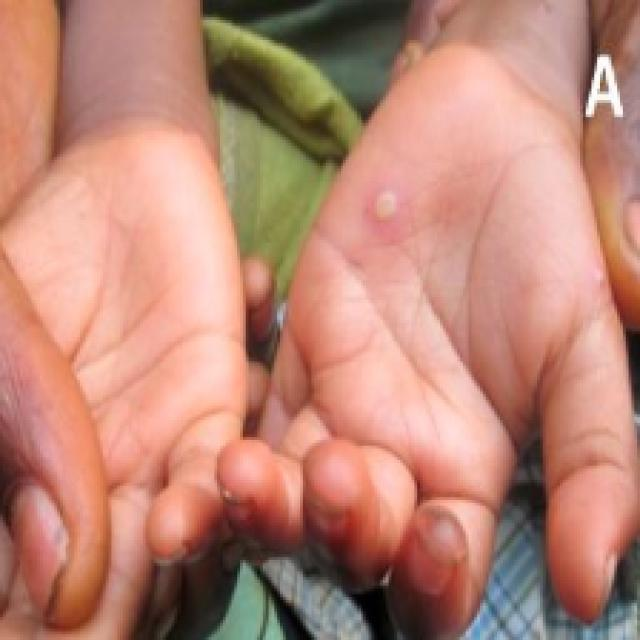Eczema: (364, 191, 402, 233)
